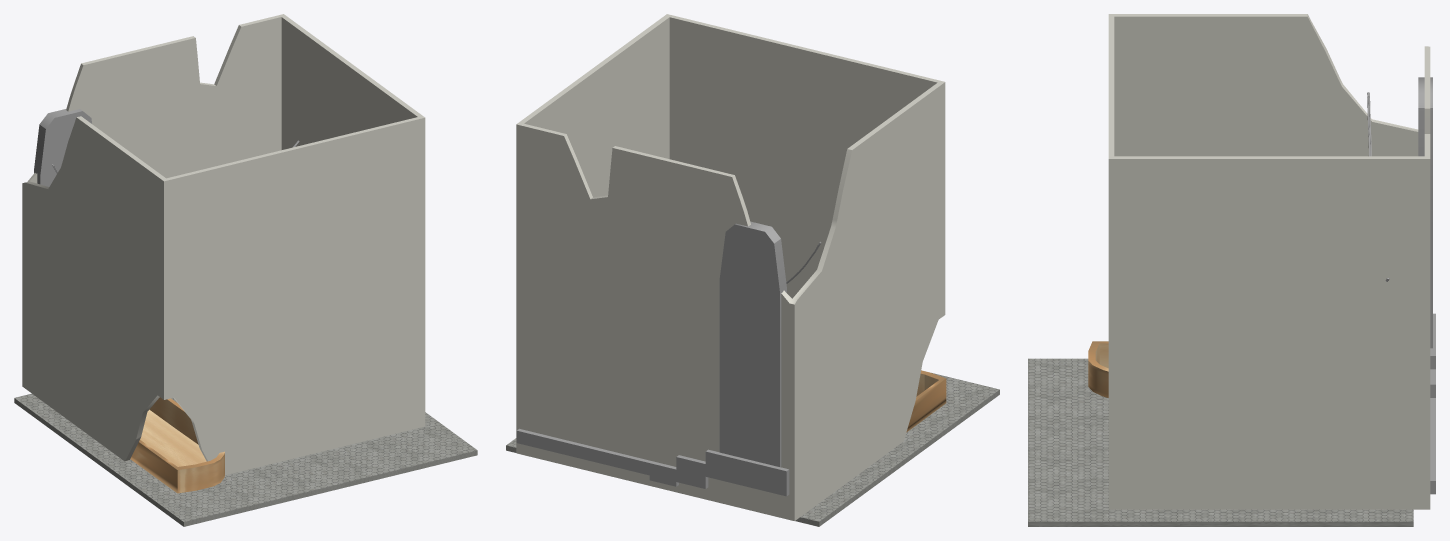
Rendered from Collection_Test2.fbx.
3 views of the same model, side by side, from view 1: azimuth 30°, elevation 25°; view 2: azimuth 150°, elevation 25°; view 3: azimuth 270°, elevation 25° (orthographic). The views are drawn at different scales.
Visible parts, largest first — view 1: Collection_Room, Collection_Ground, pCube5, pCube11; view 2: Collection_Room, pCube11, pCube10, Collection_Ground, pCube5; view 3: Collection_Room, Collection_Ground, pCube11, pCube5, pCube10.
Part boxes in pixels (x1,y1,x2,y2): Collection_Room: [22, 14, 425, 475]; Collection_Ground: [14, 393, 477, 526]; pCube5: [130, 397, 224, 493]; pCube11: [34, 109, 91, 186]; Collection_Room: [516, 14, 945, 520]; pCube11: [719, 221, 786, 466]; pCube10: [516, 428, 789, 496]; Collection_Ground: [506, 372, 999, 526]; pCube5: [906, 370, 946, 432]; Collection_Room: [1108, 14, 1430, 509]; Collection_Ground: [1028, 358, 1413, 526]; pCube11: [1418, 77, 1432, 348]; pCube5: [1088, 341, 1108, 397]; pCube10: [1430, 313, 1435, 494].
Bounding box in the file's own units: 268 × 275 × 283.
